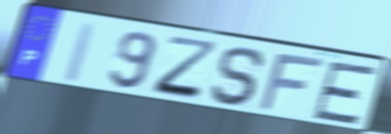9: (107, 30, 157, 92)
E: (310, 60, 381, 127)
F: (255, 53, 328, 114)
I: (60, 20, 100, 86)
S: (208, 45, 269, 109)
Z: (150, 33, 222, 103)
